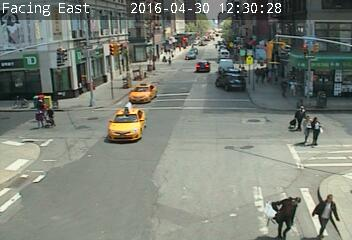neg: (63, 161, 101, 212), (116, 93, 154, 143), (64, 110, 92, 148), (226, 87, 251, 120), (327, 52, 351, 86), (83, 63, 107, 95), (212, 149, 231, 175), (123, 55, 136, 72), (149, 39, 159, 51)
pos: (267, 183, 307, 237)
